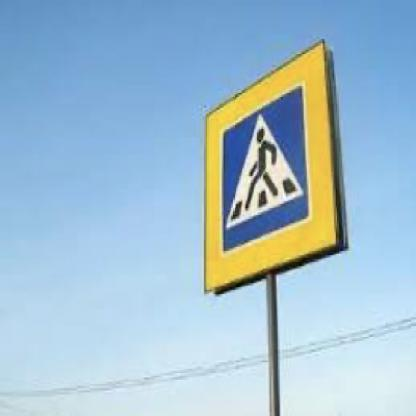crosswalk: (220, 80, 310, 254)
